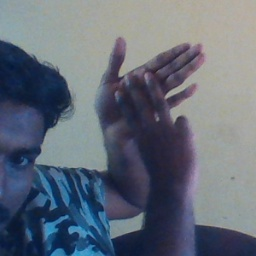M: (92, 37, 208, 192)
